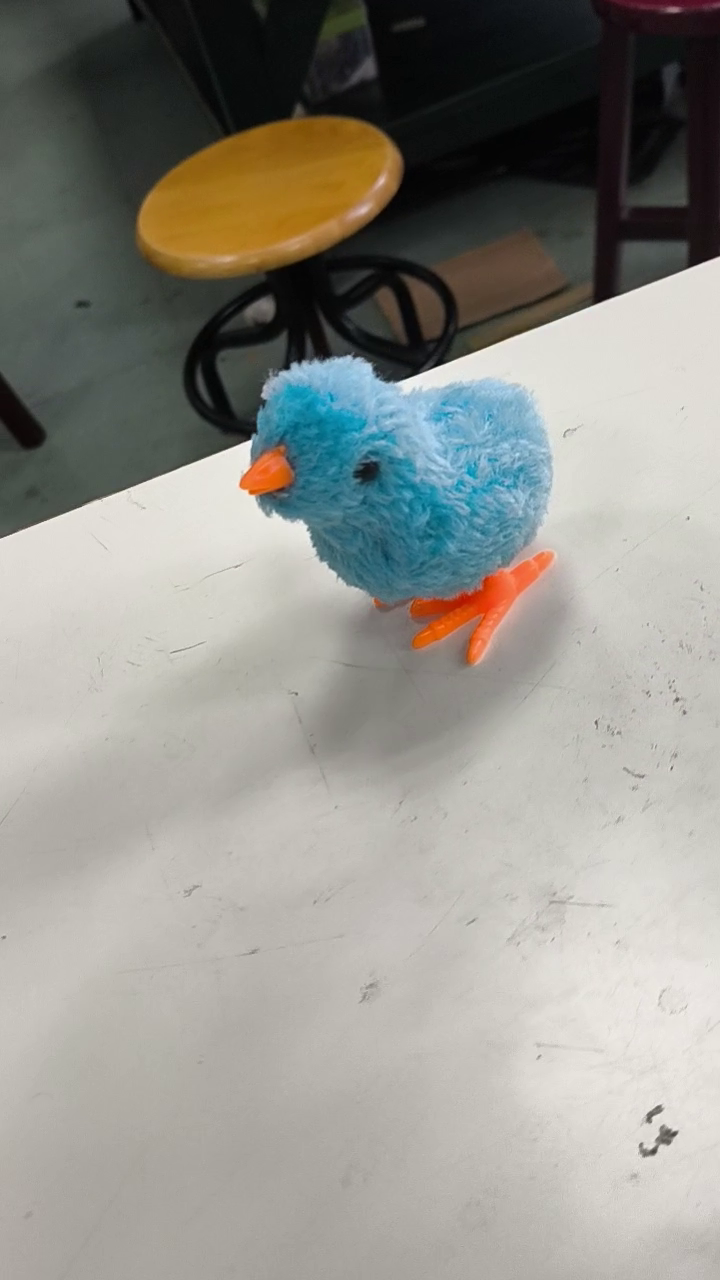blue chicken: (231, 347, 563, 675)
